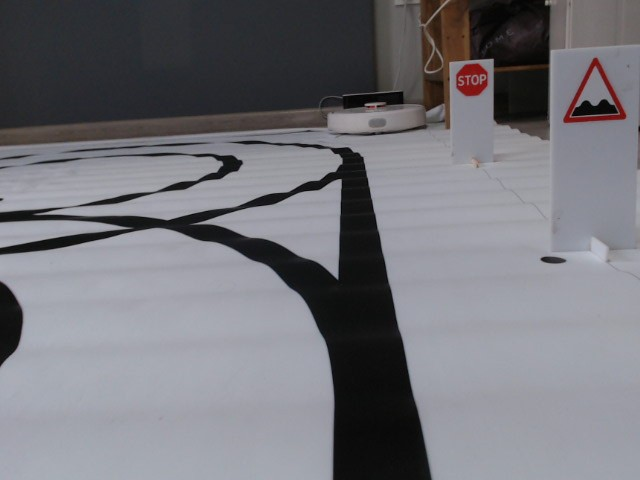Nerov: (561, 56, 630, 123)
